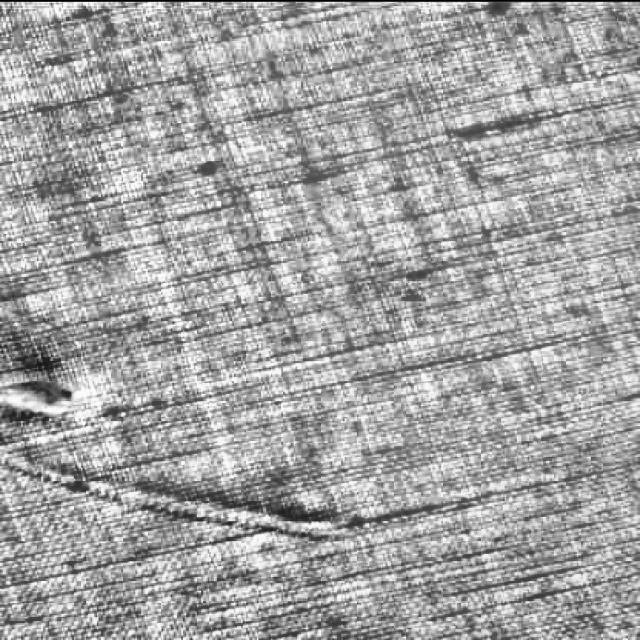objects: (0, 435, 380, 549), (0, 358, 111, 432)
